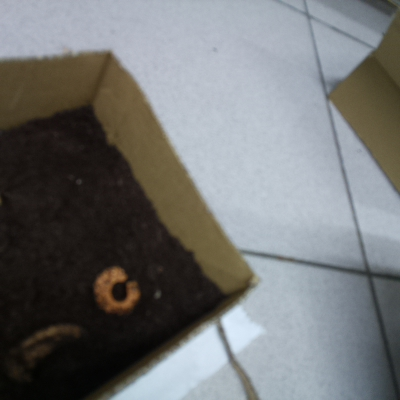eggs: (1, 317, 91, 390), (86, 260, 145, 320)
